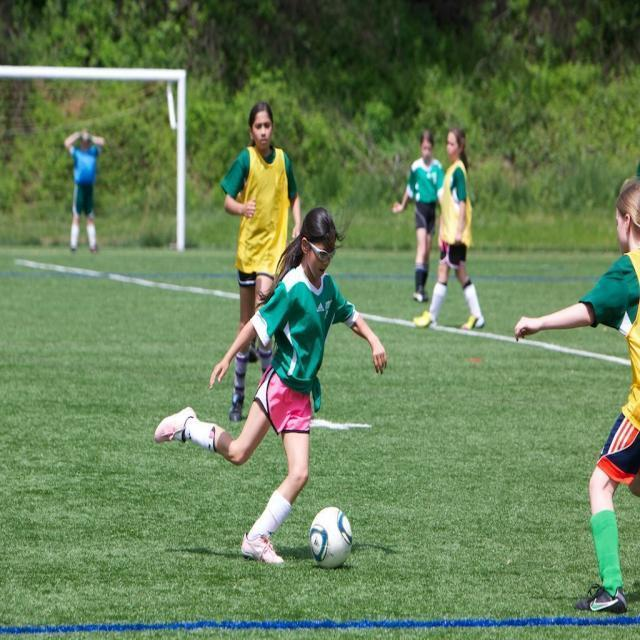football: (298, 496, 368, 577)
